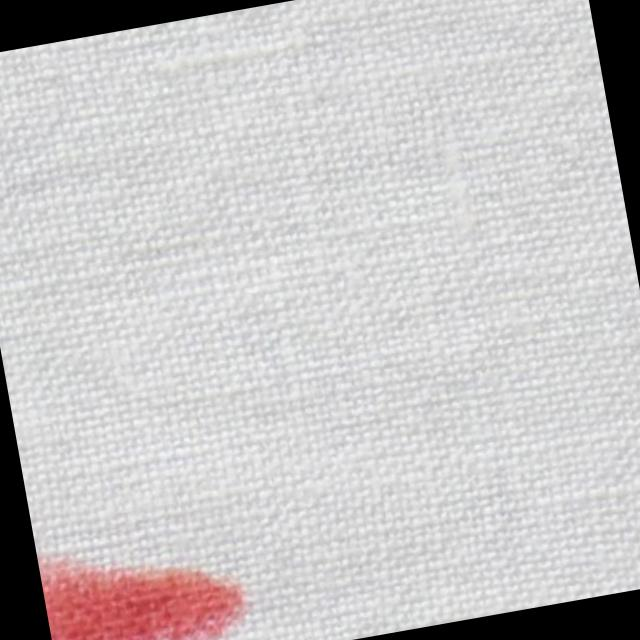Stain: (37, 527, 254, 640)
